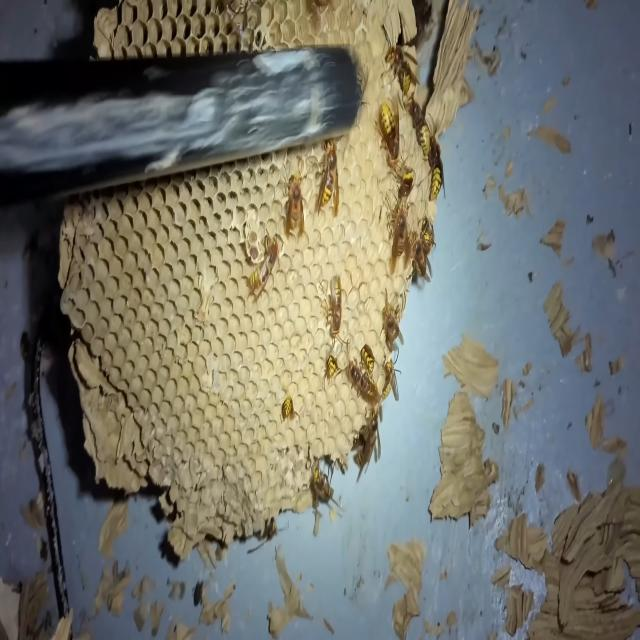Hornets: (350, 406, 382, 484), (419, 115, 447, 203), (380, 40, 420, 98), (248, 229, 280, 298), (303, 446, 339, 506), (315, 136, 341, 217), (400, 90, 430, 160), (320, 274, 349, 346), (376, 97, 405, 166), (343, 354, 379, 406), (282, 168, 306, 241), (390, 193, 409, 273), (380, 348, 400, 403)
